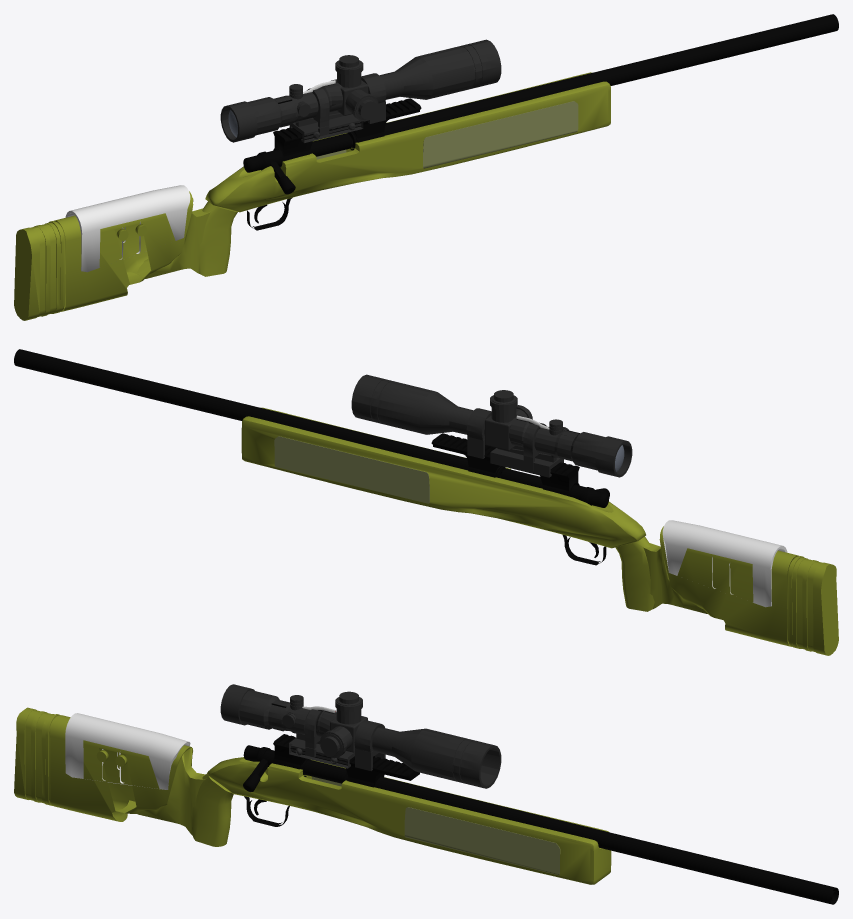
Rendered from sniper.glb.
3 renders of one model, top to bottom at view 1: azimuth 30°, elevation 25°; view 2: azimuth 150°, elevation 25°; view 3: azimuth 330°, elevation 25°, orthographic.
Parts seen in each view (by area): view 1: m40a3, m40a3_x16scope, m40a3_cheekwell, m40a3_TA31RCO_Acog, m40a3_bolt; view 2: m40a3, m40a3_x16scope, m40a3_cheekwell, m40a3_TA31RCO_Acog, m40a3_bolt; view 3: m40a3, m40a3_x16scope, m40a3_cheekwell, m40a3_TA31RCO_Acog, m40a3_bolt.
Boxes of the visible parts, x1,y1,x2,y2 form: m40a3: [14, 14, 838, 320]; m40a3_x16scope: [220, 39, 501, 142]; m40a3_cheekwell: [65, 185, 190, 272]; m40a3_TA31RCO_Acog: [278, 80, 363, 142]; m40a3_bolt: [243, 133, 352, 194]; m40a3: [14, 349, 838, 655]; m40a3_x16scope: [351, 374, 632, 477]; m40a3_cheekwell: [662, 520, 787, 607]; m40a3_TA31RCO_Acog: [490, 415, 579, 477]; m40a3_bolt: [500, 468, 609, 507]; m40a3: [14, 707, 838, 904]; m40a3_x16scope: [220, 684, 501, 788]; m40a3_cheekwell: [65, 713, 190, 789]; m40a3_TA31RCO_Acog: [271, 695, 354, 768]; m40a3_bolt: [243, 745, 347, 791].
Bounding box in the file's own units: 44.2 × 9.37 × 3.11.
